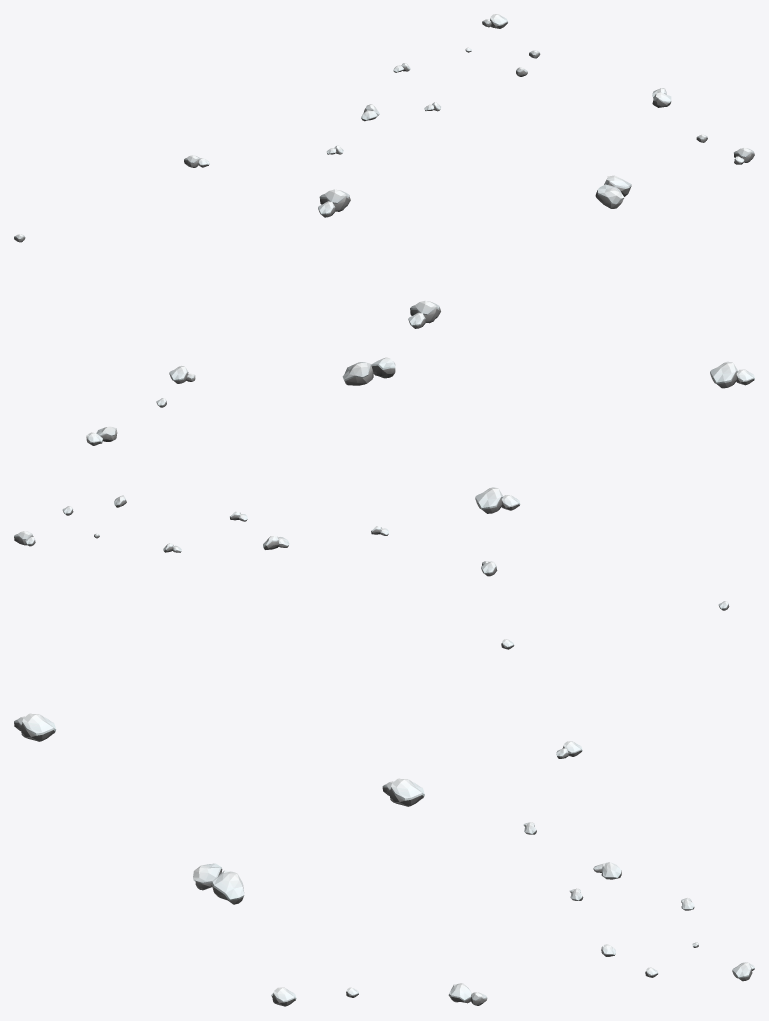
The picture shows the model from 3 angles, top to bottom: view 1: azimuth 30°, elevation 25°; view 2: azimuth 150°, elevation 25°; view 3: azimuth 270°, elevation 25°; orthographic projection. The views are drawn at different scales.
Parts seen in each view (by area): view 1: no part large enough to name; view 2: SnowyRock1 (18), SnowyRock1 (14), SnowyRock1 (17); view 3: SnowyRock1 (18), SnowyRock1 (17), SnowyRock1 (14).
Boxes of the visible parts, <box> form: SnowyRock1 (18): <box>342,362,373,385</box>; SnowyRock1 (14): <box>475,487,503,513</box>; SnowyRock1 (17): <box>710,361,738,388</box>; SnowyRock1 (18): <box>211,870,244,904</box>; SnowyRock1 (17): <box>20,713,56,741</box>; SnowyRock1 (14): <box>389,778,424,806</box>.
Size of the model in its own units: 320 by 22.2 by 277.
1 material, 1 textured.
